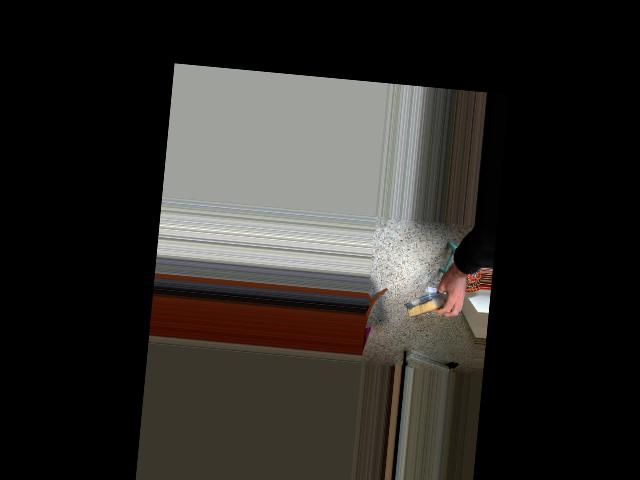cheese: (400, 284, 457, 324)
